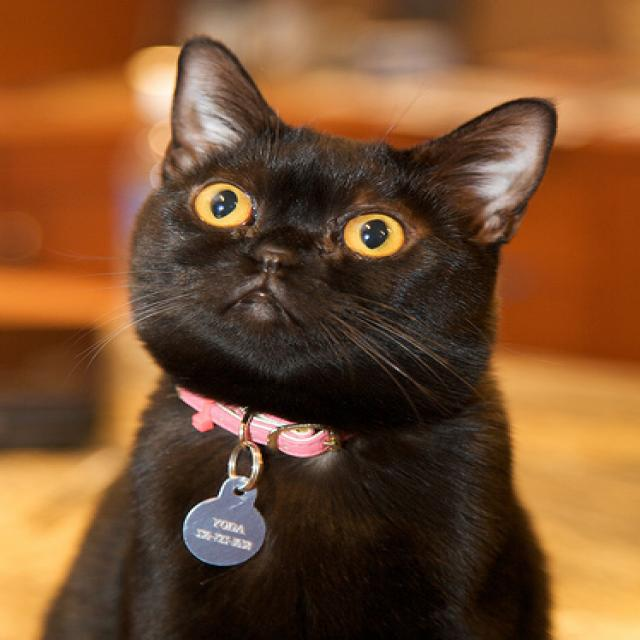Bombay: (12, 28, 565, 640)
